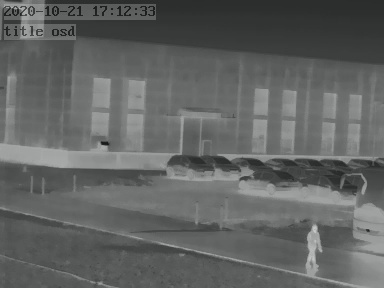person: (305, 221, 323, 270)
vehicle: (238, 169, 304, 191), (295, 174, 346, 201), (163, 153, 214, 179), (202, 153, 243, 177), (232, 154, 270, 171), (344, 156, 378, 171), (261, 155, 296, 169), (320, 156, 350, 170), (296, 155, 324, 169)
